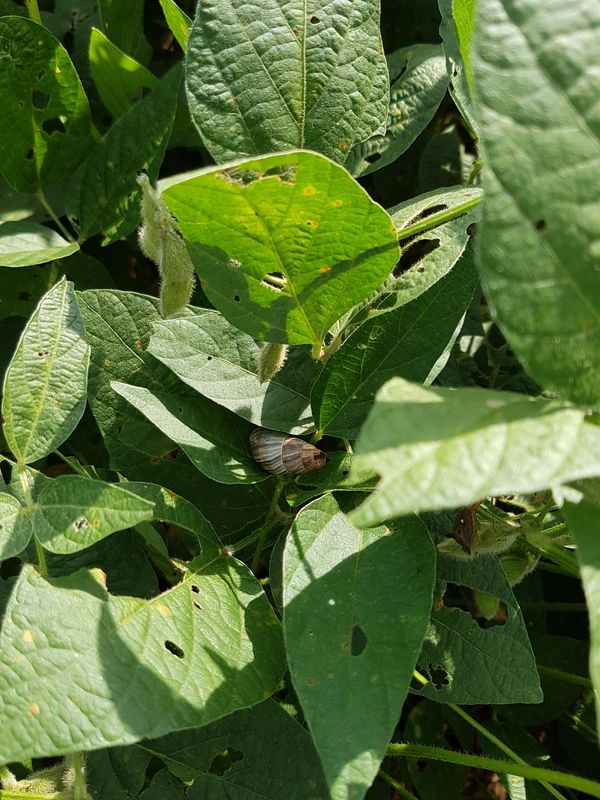Euschistus_heros_adulto: (436, 495, 494, 564)
Gastropoda: (241, 415, 341, 492)
